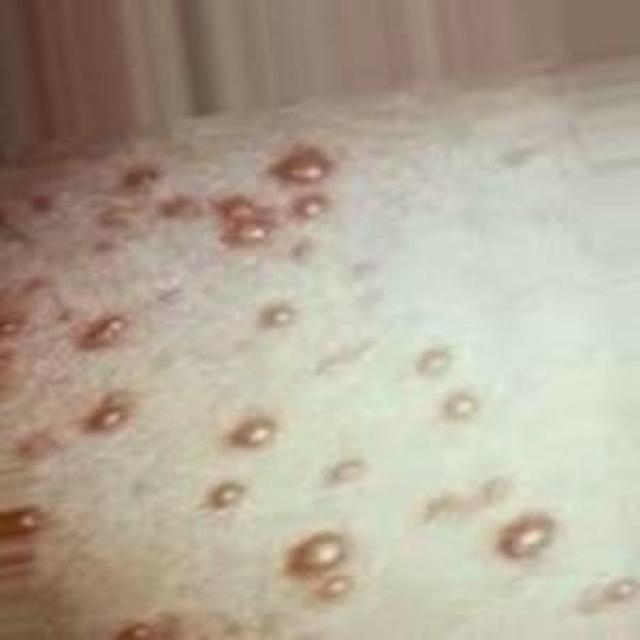Shingles: (288, 530, 349, 578), (497, 513, 555, 560), (581, 575, 637, 614), (272, 146, 332, 182), (85, 396, 135, 435), (79, 314, 129, 350), (0, 504, 42, 542), (230, 416, 276, 448), (206, 480, 248, 511), (325, 457, 367, 486), (97, 203, 139, 230), (230, 218, 270, 245), (444, 392, 480, 421), (416, 348, 452, 377), (317, 573, 354, 601), (260, 303, 297, 330), (295, 192, 329, 219), (121, 165, 159, 189), (115, 620, 159, 640), (0, 317, 22, 338)
